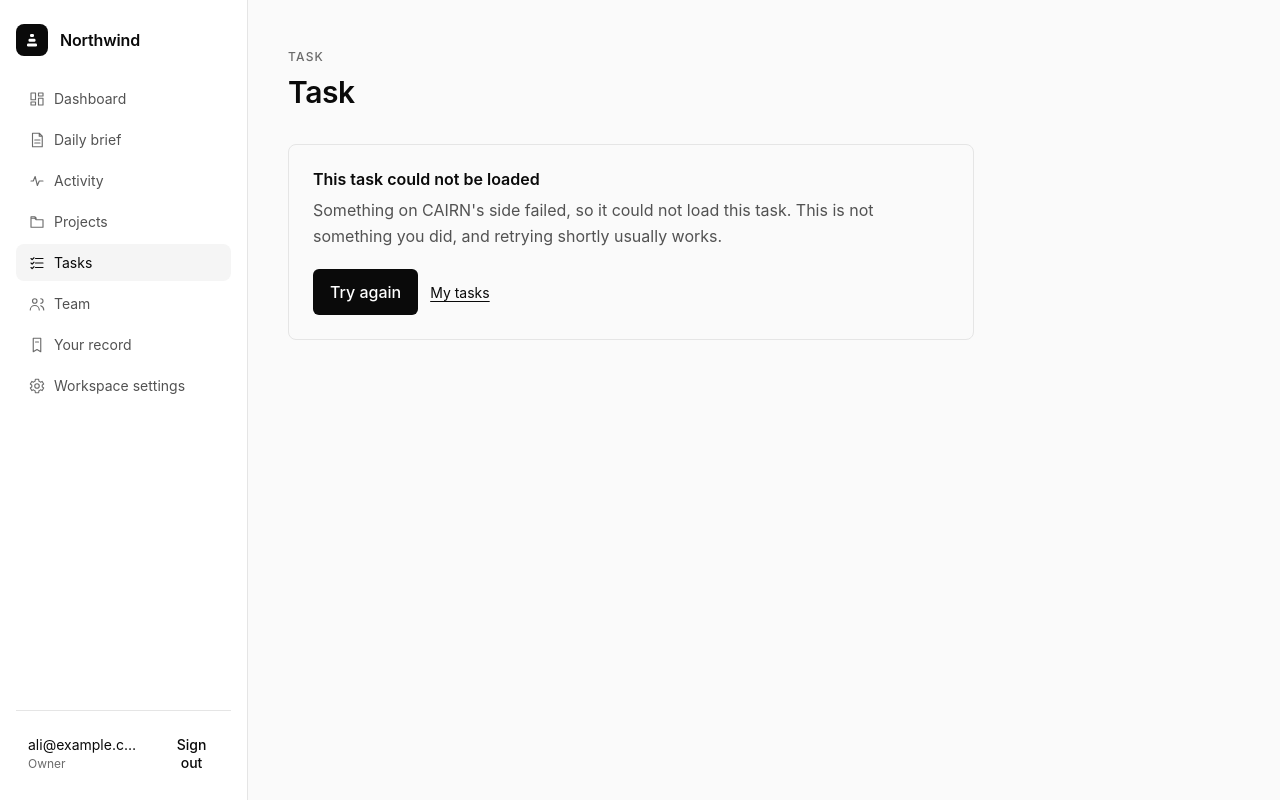
Test case: loading, failure and absence › offers a retry when the read fails, and it works
Check: the heading "This task could not be loaded" is shown, box x1=313 y1=168 x2=540 y2=188
Step 1. Click the button "Try again" → [366, 292], box x1=313 y1=269 x2=418 y2=315
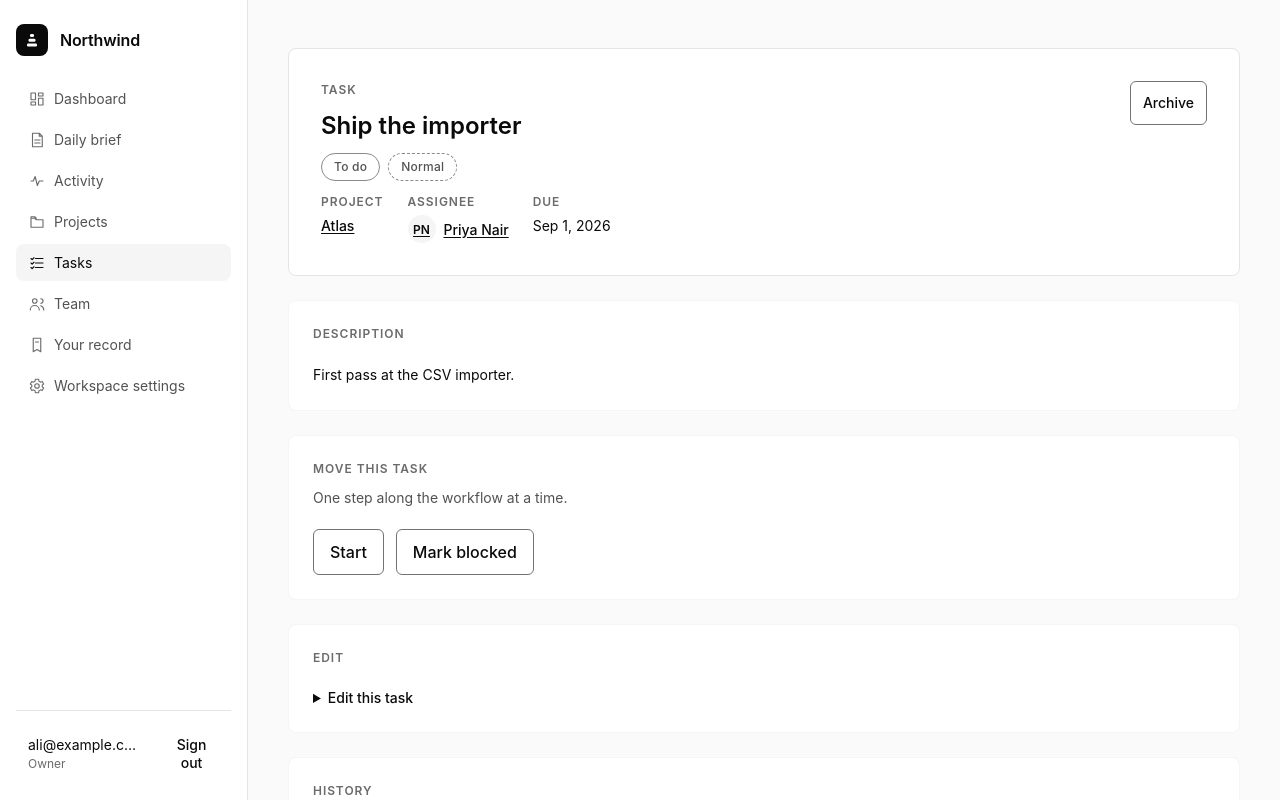
Check: the heading "Ship the importer" is shown, box x1=321 y1=111 x2=522 y2=141
